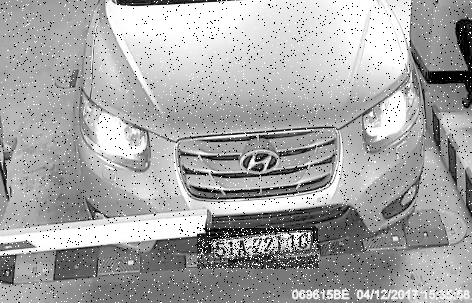License-plate: (199, 230, 321, 271)
